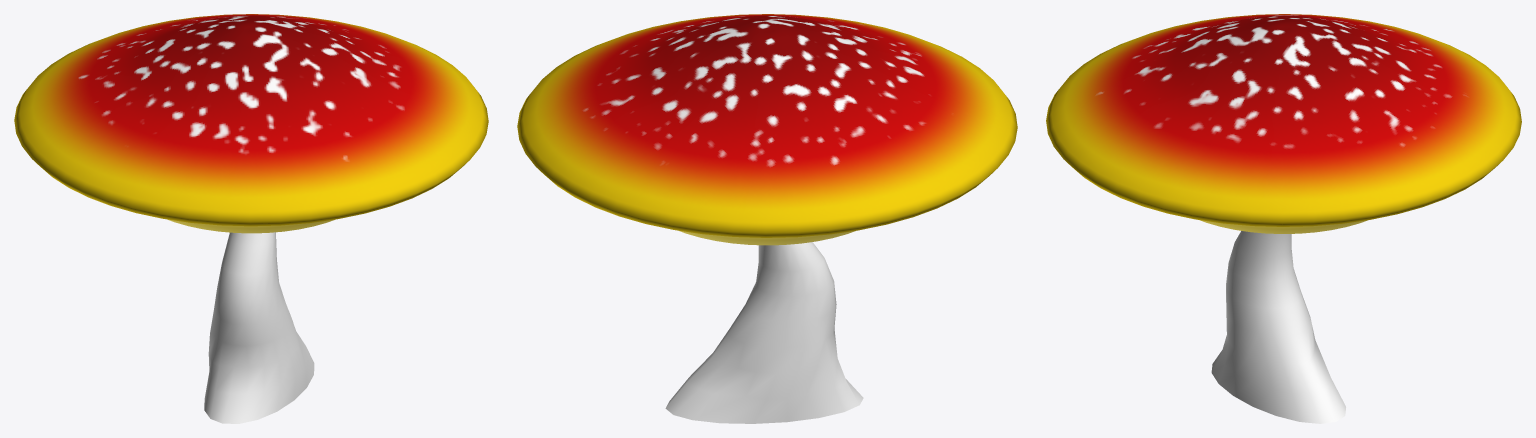
Rendered from flatShroom.FBX.
The picture shows the model from 3 angles, left to right: view 1: azimuth 30°, elevation 25°; view 2: azimuth 150°, elevation 25°; view 3: azimuth 270°, elevation 25°; orthographic projection. The views are drawn at different scales.
Visible parts, largest first — view 1: Cylinder01; view 2: Cylinder01; view 3: Cylinder01.
Part boxes in pixels (bbox=[...]): Cylinder01: bbox=[14, 14, 488, 423]; Cylinder01: bbox=[517, 14, 1017, 423]; Cylinder01: bbox=[1046, 14, 1521, 423].
Bounding box in the file's own units: 31.25 × 25.97 × 31.25.
1 material, 1 textured.
